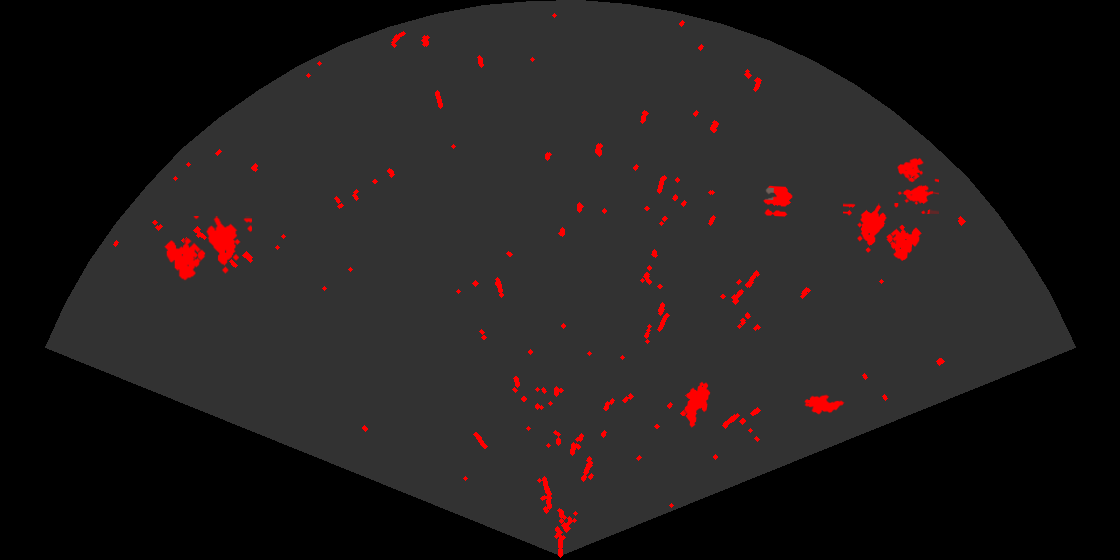AUV: (683, 380, 712, 429), (803, 393, 846, 416)
ball: (762, 184, 794, 218)
cage: (163, 216, 252, 282), (843, 203, 923, 262), (896, 156, 939, 214)
